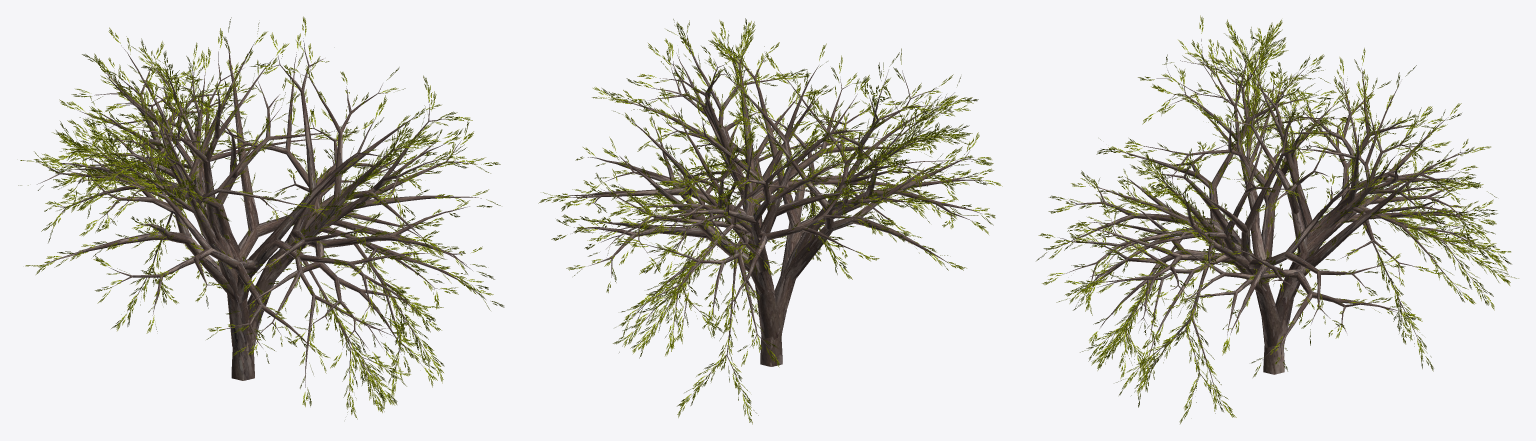
Rendered from Tree1.fbx.
The picture shows the model from 3 angles, left to right: view 1: azimuth 30°, elevation 25°; view 2: azimuth 150°, elevation 25°; view 3: azimuth 270°, elevation 25°; orthographic projection. The views are drawn at different scales.
Parts seen in each view (by area): view 1: Tree1_LOD0, Tree1Leaves_LOD0; view 2: Tree1_LOD0, Tree1Leaves_LOD0; view 3: Tree1_LOD0, Tree1Leaves_LOD0.
Part boxes in pixels (x1=…): Tree1_LOD0: x1=37, y1=37, x2=484, y2=403; Tree1Leaves_LOD0: x1=18, y1=16, x2=504, y2=419; Tree1_LOD0: x1=561, y1=32, x2=981, y2=398; Tree1Leaves_LOD0: x1=538, y1=18, x2=1002, y2=424; Tree1_LOD0: x1=1052, y1=36, x2=1493, y2=404; Tree1Leaves_LOD0: x1=1036, y1=15, x2=1518, y2=423.
Size of what is drawn, in the model's own units: 640 by 453 by 661.
